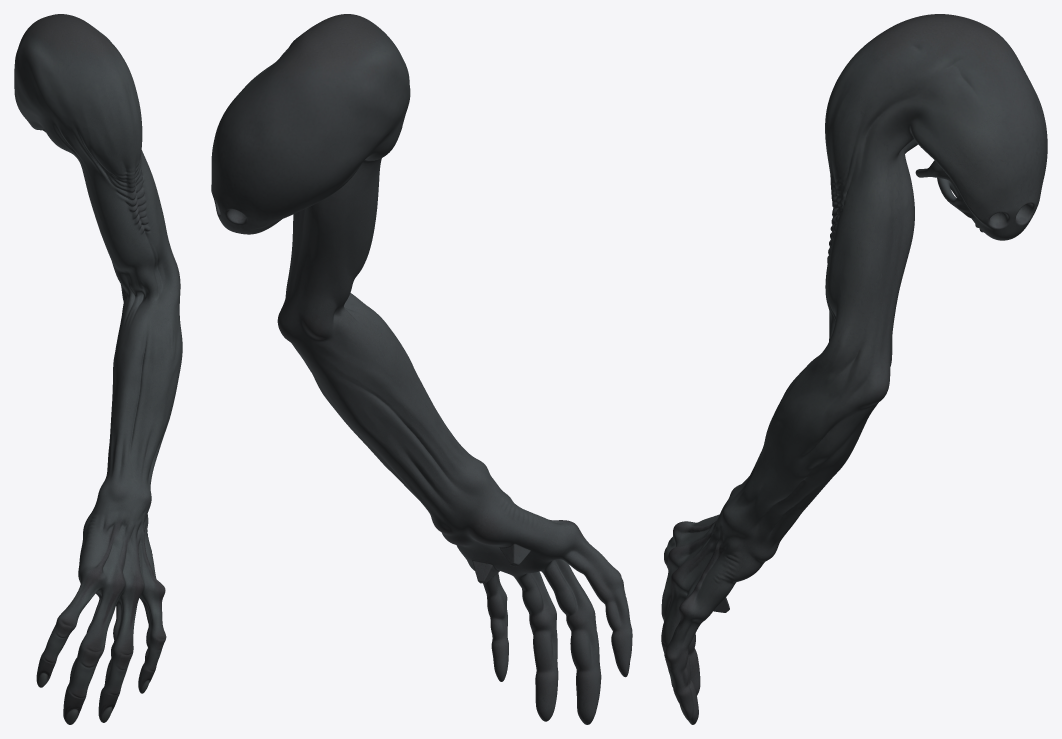
The model's file is Meshy_AI_3D_Alien_Arm_1019000209_texture.fbx.
3 views of the same model, side by side, from view 1: azimuth 30°, elevation 25°; view 2: azimuth 150°, elevation 25°; view 3: azimuth 270°, elevation 25° (orthographic). The views are drawn at different scales.
Visible parts, largest first — view 1: Mesh_0; view 2: Mesh_0; view 3: Mesh_0.
Boxes of the visible parts, x1,y1,x2,y2 form: Mesh_0: (14, 14, 182, 724); Mesh_0: (211, 14, 632, 724); Mesh_0: (661, 14, 1047, 724).
Bounding box in the file's own units: 70.35 × 200 × 94.06.
Materials: 1 (1 with a texture image).
